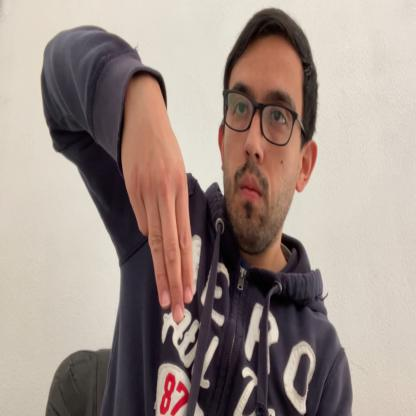M: (121, 84, 194, 324)
